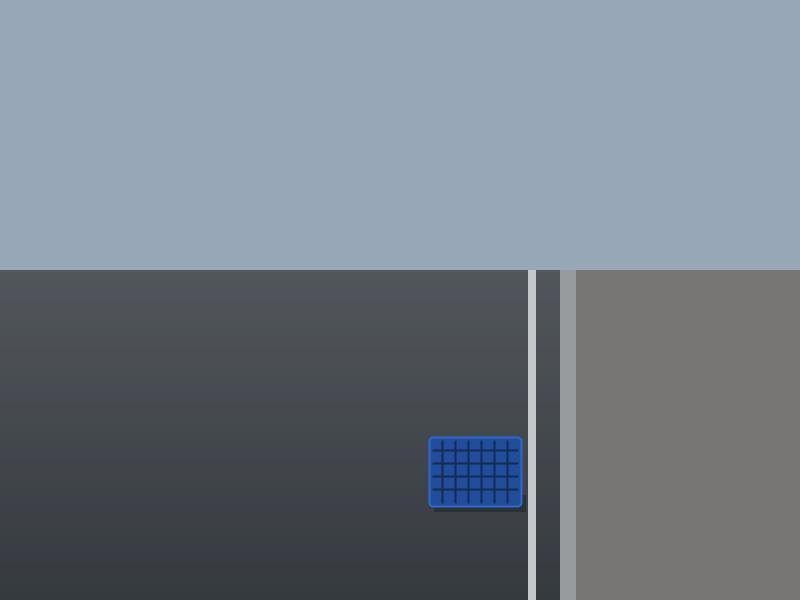ROAD_OBSTACLE: (429, 437, 521, 506)
